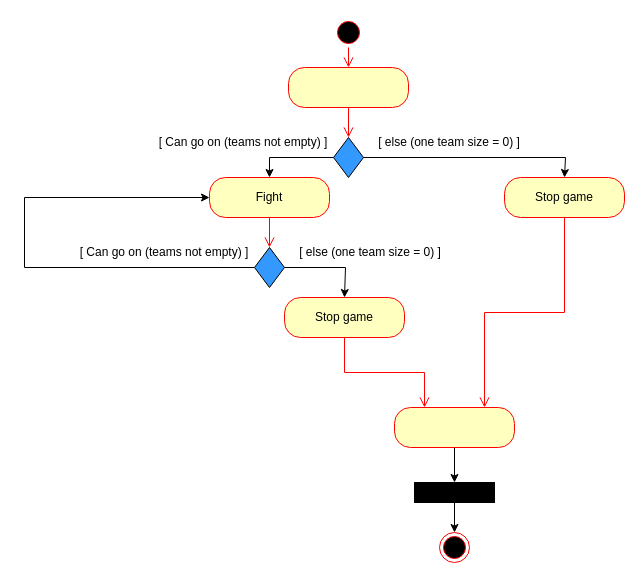
This 642x580 diagram has some shape labels left out. Each missing label, with the centre of its shape:
Matchmaking: point (348, 87)
Print information: point (454, 427)
